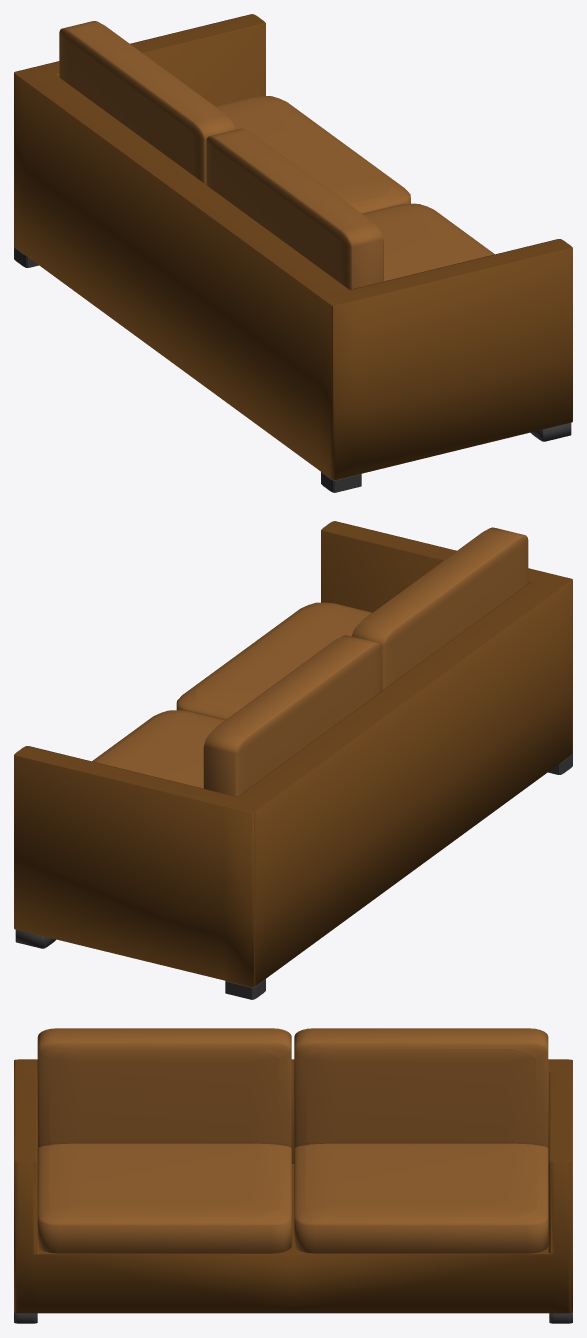
File: Couch.fbx
3 views of the same model, one above another, from view 1: azimuth 30°, elevation 25°; view 2: azimuth 150°, elevation 25°; view 3: azimuth 270°, elevation 25° (orthographic). The views are drawn at different scales.
Visible parts, largest first — view 1: Couch.001; view 2: Couch.001; view 3: Couch.001.
Part boxes in pixels (x1,y1,x2,y2): Couch.001: (14, 14, 572, 492); Couch.001: (14, 521, 572, 999); Couch.001: (14, 1028, 572, 1323).
Bounding box in the file's own units: 99.09 × 91.38 × 223.
